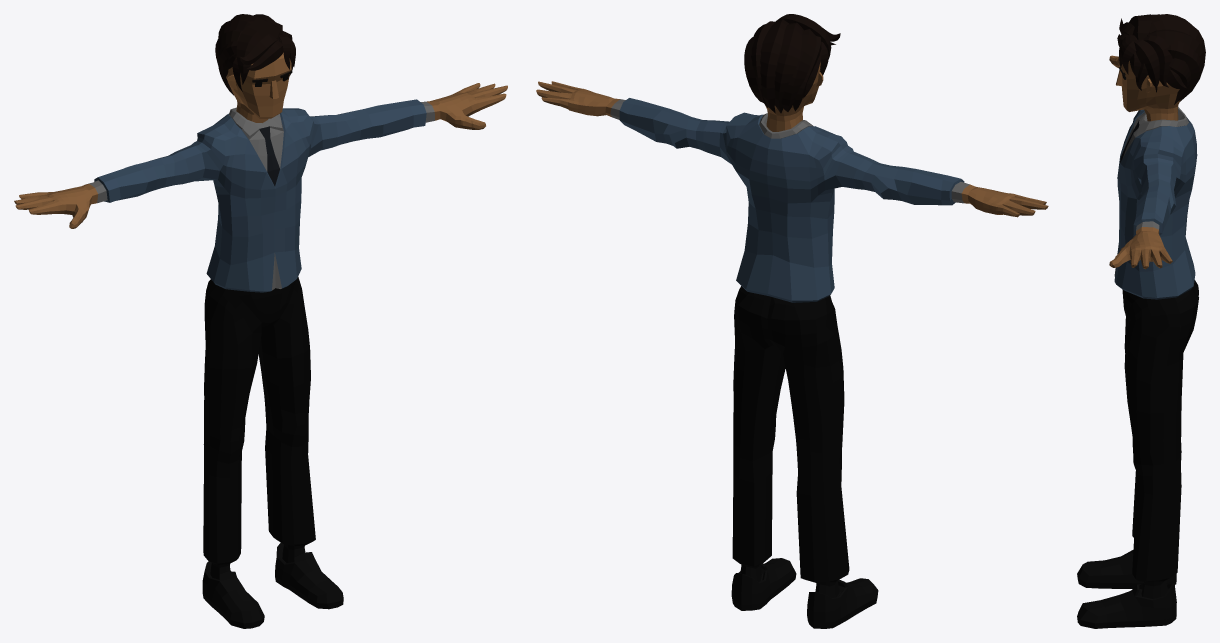
File: staff1.fbx
The picture shows the model from 3 angles, left to right: view 1: azimuth 30°, elevation 25°; view 2: azimuth 150°, elevation 25°; view 3: azimuth 270°, elevation 25°; orthographic projection. The views are drawn at different scales.
Parts seen in each view (by area): view 1: Suit_Body, Suit_Legs, Suit_Head, Suit_Feet; view 2: Suit_Body, Suit_Legs, Suit_Head, Suit_Feet; view 3: Suit_Legs, Suit_Body, Suit_Head, Suit_Feet.
Boxes of the visible parts, bbox=[...] form: Suit_Body: bbox=[14, 83, 507, 292]; Suit_Legs: bbox=[203, 277, 315, 564]; Suit_Head: bbox=[215, 14, 295, 122]; Suit_Feet: bbox=[202, 542, 343, 628]; Suit_Body: bbox=[536, 81, 1048, 302]; Suit_Legs: bbox=[732, 286, 849, 582]; Suit_Head: bbox=[744, 14, 840, 131]; Suit_Feet: bbox=[731, 558, 878, 628]; Suit_Legs: bbox=[1122, 280, 1198, 581]; Suit_Body: bbox=[1109, 55, 1197, 299]; Suit_Head: bbox=[1116, 14, 1205, 121]; Suit_Feet: bbox=[1077, 550, 1176, 628].
Bounding box in the file's own units: 168 × 186 × 37.16.
